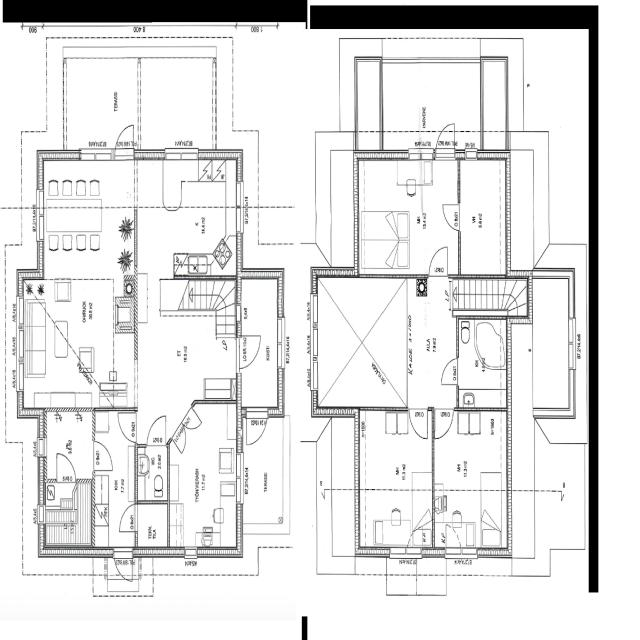door: (246, 406, 268, 449), (236, 335, 262, 368), (115, 120, 133, 160), (436, 120, 454, 160), (171, 421, 192, 455), (114, 547, 132, 586), (181, 406, 202, 439), (116, 412, 138, 442), (92, 442, 114, 471), (57, 449, 76, 482), (409, 406, 427, 440), (435, 406, 453, 440), (147, 414, 165, 447), (429, 245, 447, 278), (118, 504, 138, 531), (441, 204, 460, 230), (440, 359, 459, 384)
